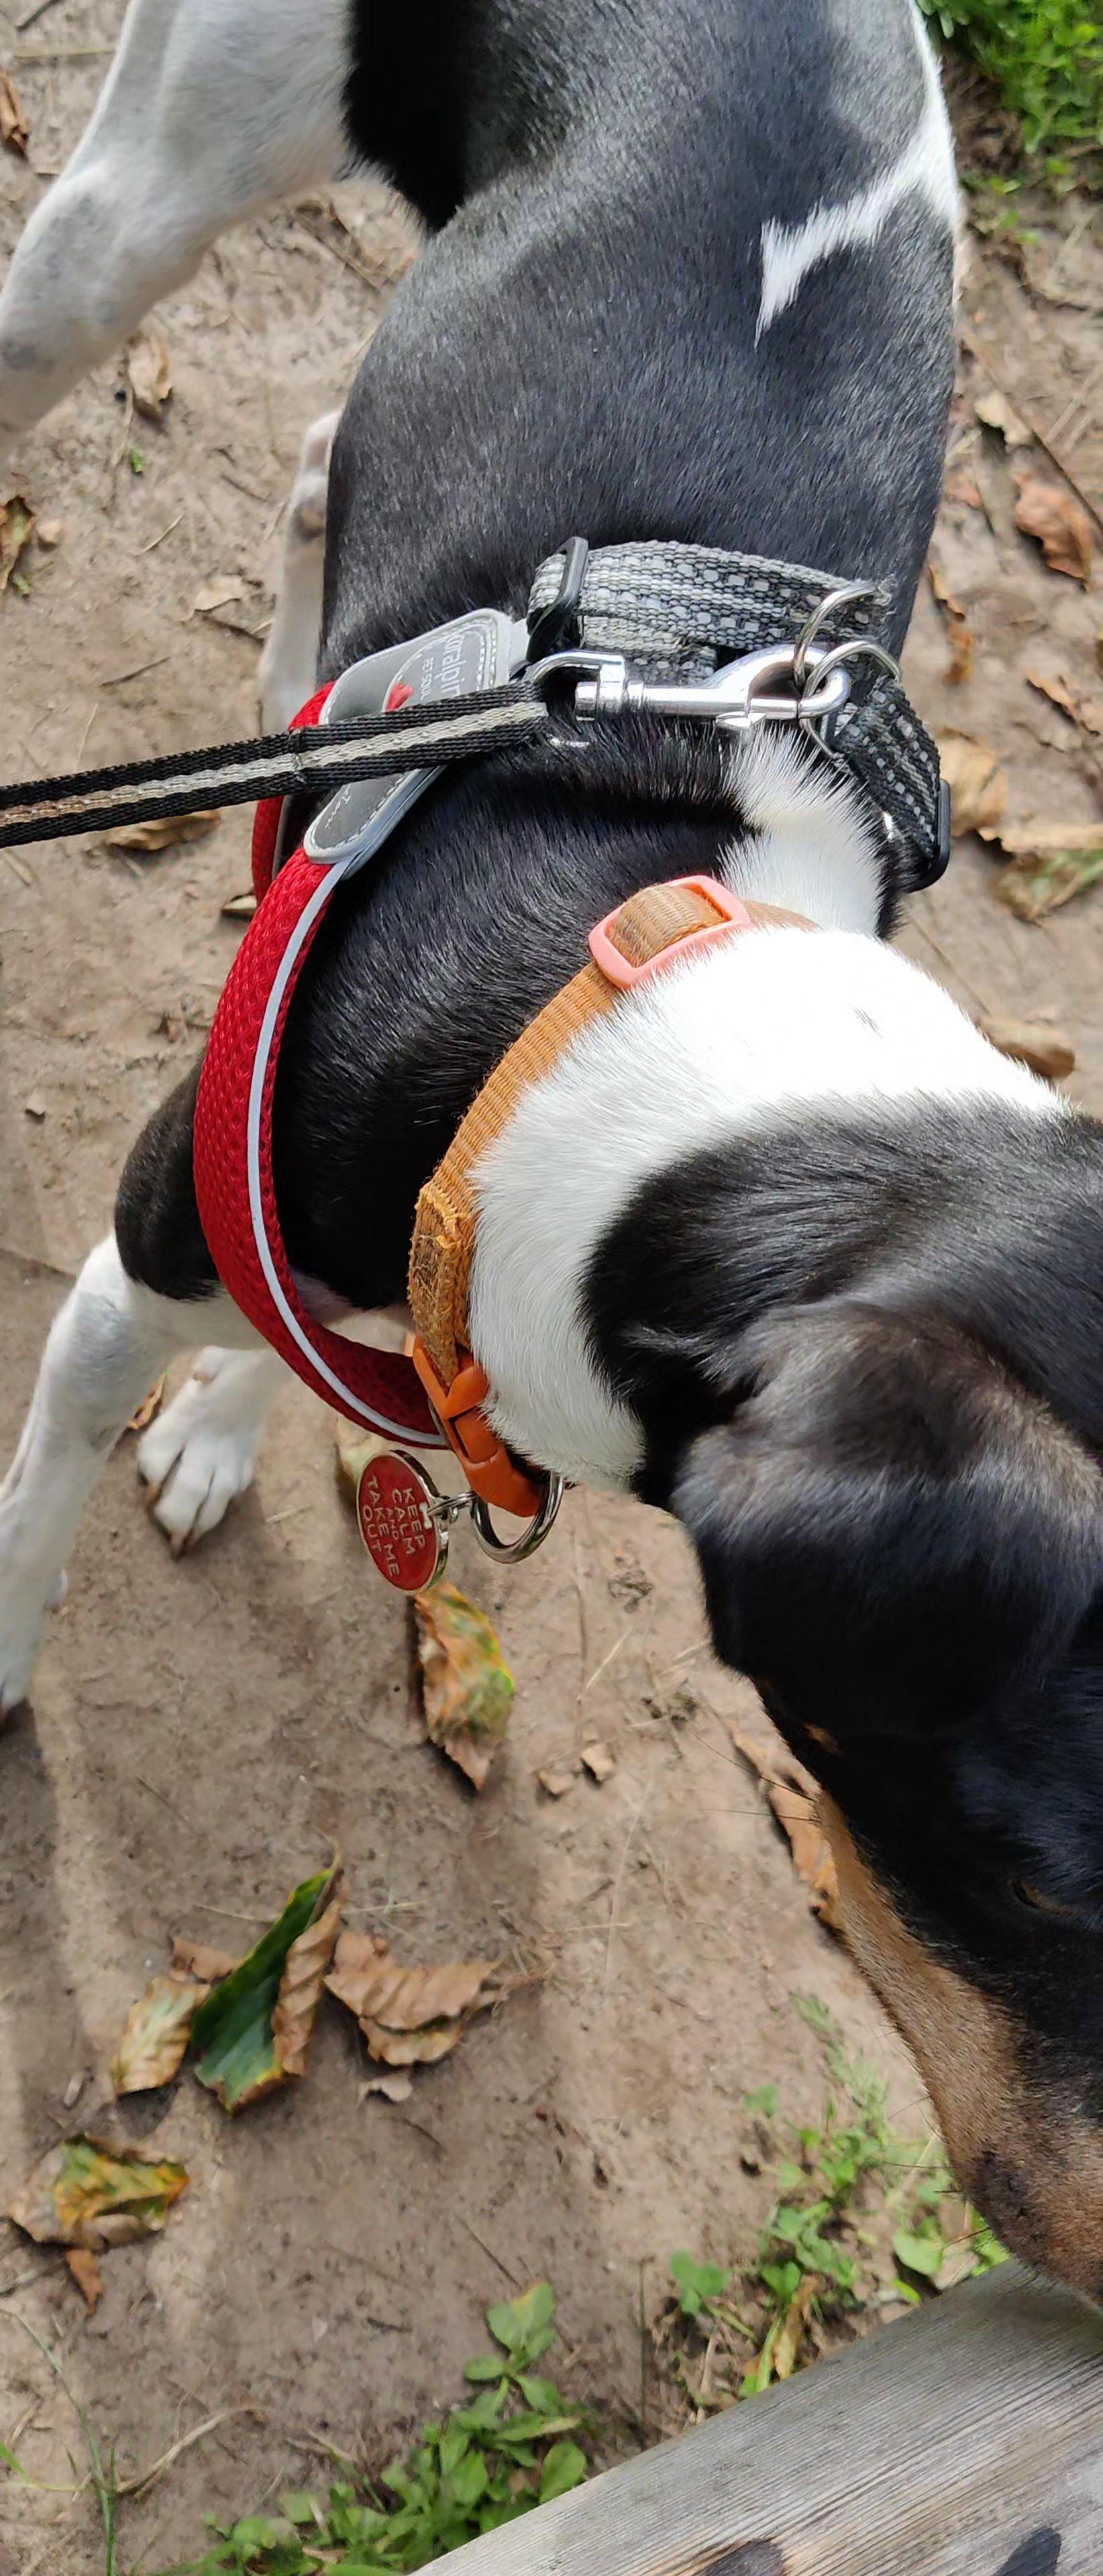Dog: (0, 0, 1103, 2339)
